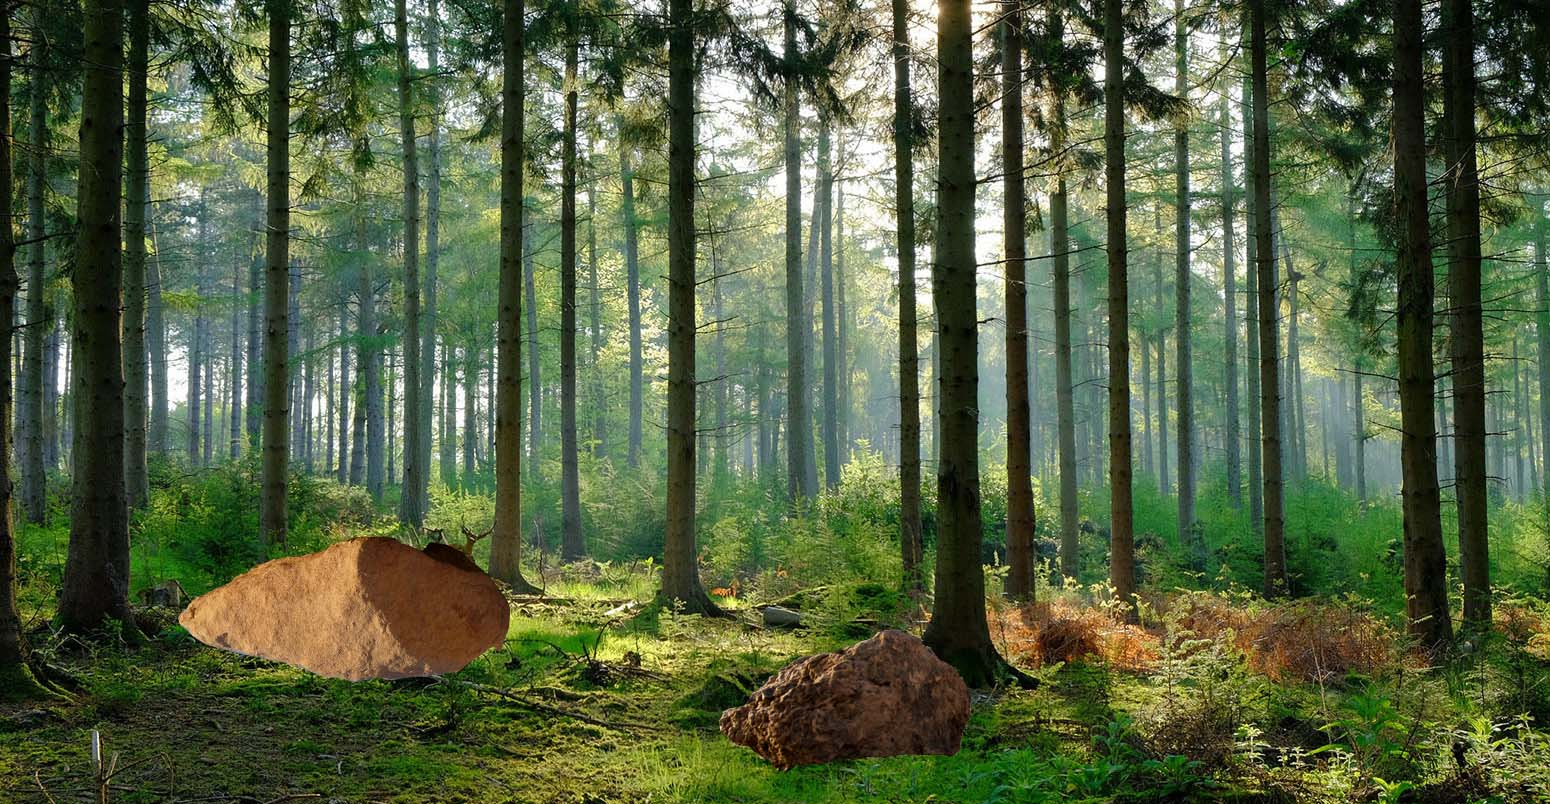Rocks: (177, 532, 523, 673), (712, 630, 985, 775)
